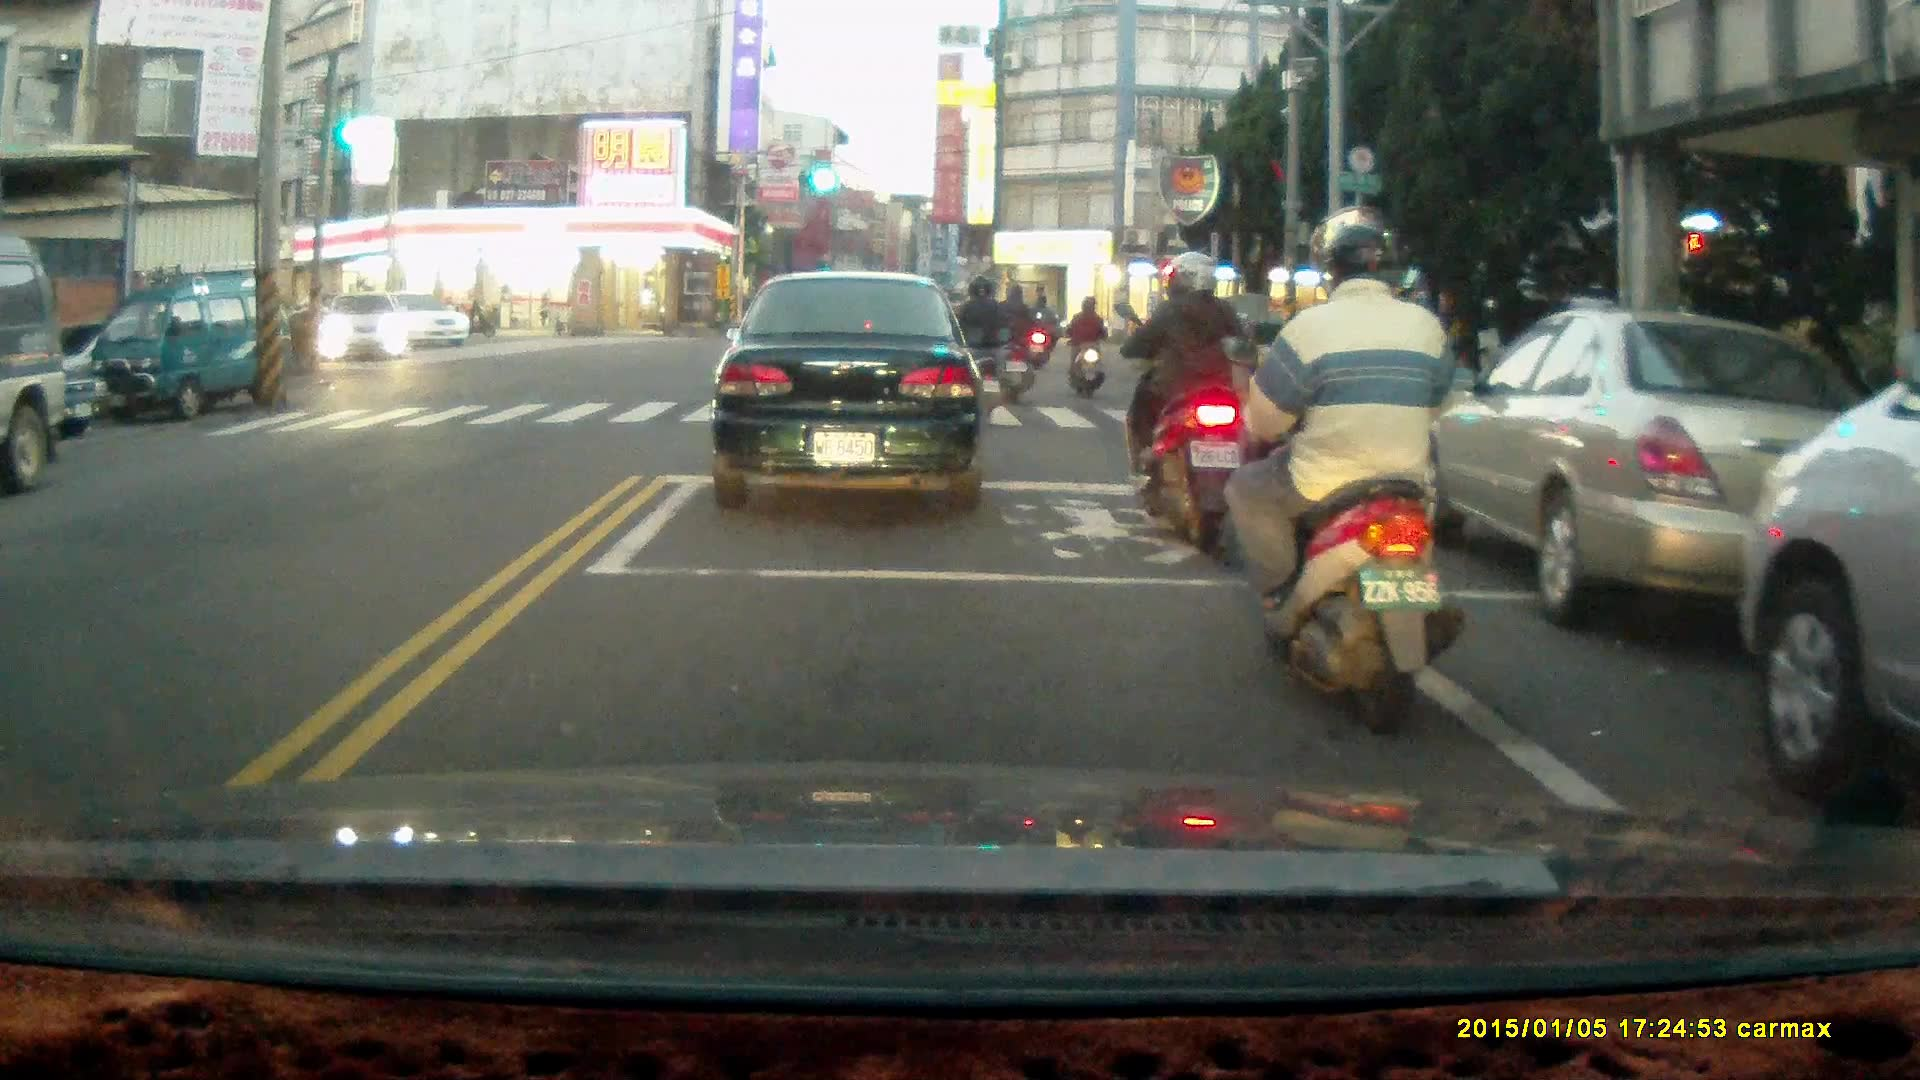rider: (1224, 220, 1465, 734), (1110, 251, 1251, 553), (950, 275, 1005, 420), (989, 279, 1037, 407), (1067, 293, 1109, 400), (1026, 291, 1058, 366)
vehicle: (1424, 306, 1873, 633), (1739, 377, 1920, 798), (706, 269, 987, 516), (77, 263, 263, 421), (1, 234, 79, 489), (317, 293, 412, 366), (378, 289, 474, 348)
